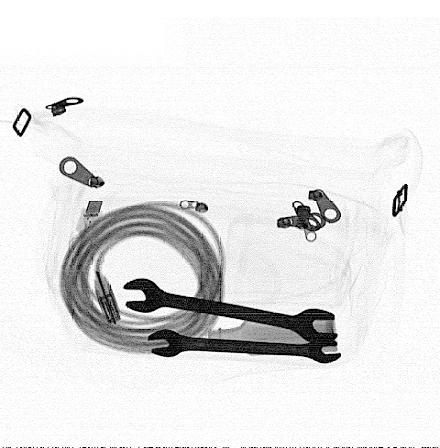Wrench: (121, 277, 342, 347), (143, 327, 343, 364)
